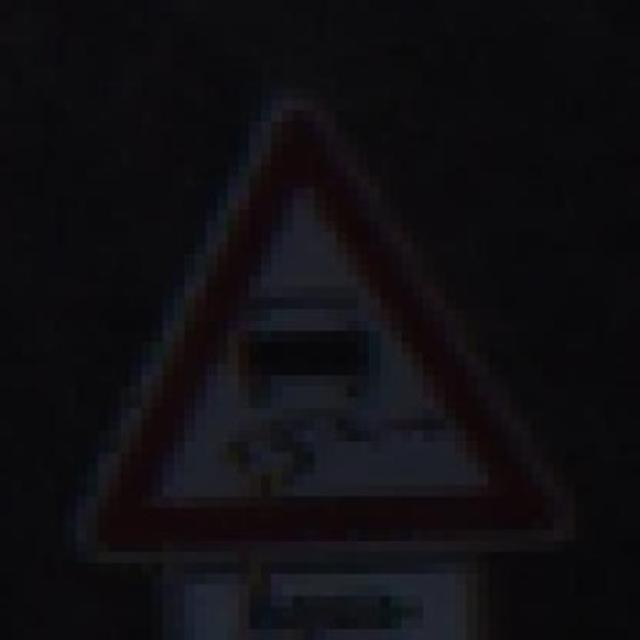Slippery Road Ahead: (54, 88, 586, 563)
